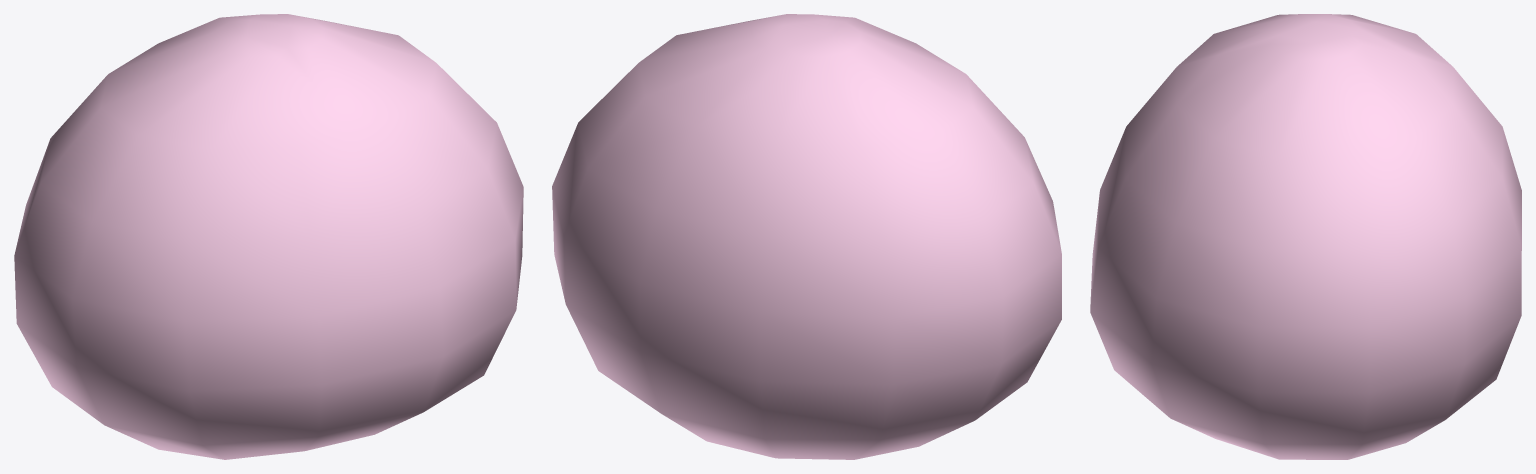
The model's file is SLIME HEART 1.fbx.
3 views of the same model, side by side, from view 1: azimuth 30°, elevation 25°; view 2: azimuth 150°, elevation 25°; view 3: azimuth 270°, elevation 25° (orthographic). The views are drawn at different scales.
Visible parts, largest first — view 1: Circle.001; view 2: Circle.001; view 3: Circle.001.
Boxes of the visible parts, box(x1,y1,x2,y2) form: Circle.001: box(14, 14, 523, 459); Circle.001: box(552, 14, 1061, 459); Circle.001: box(1090, 14, 1521, 459).
Bounding box in the file's own units: 139 × 110 × 118.
